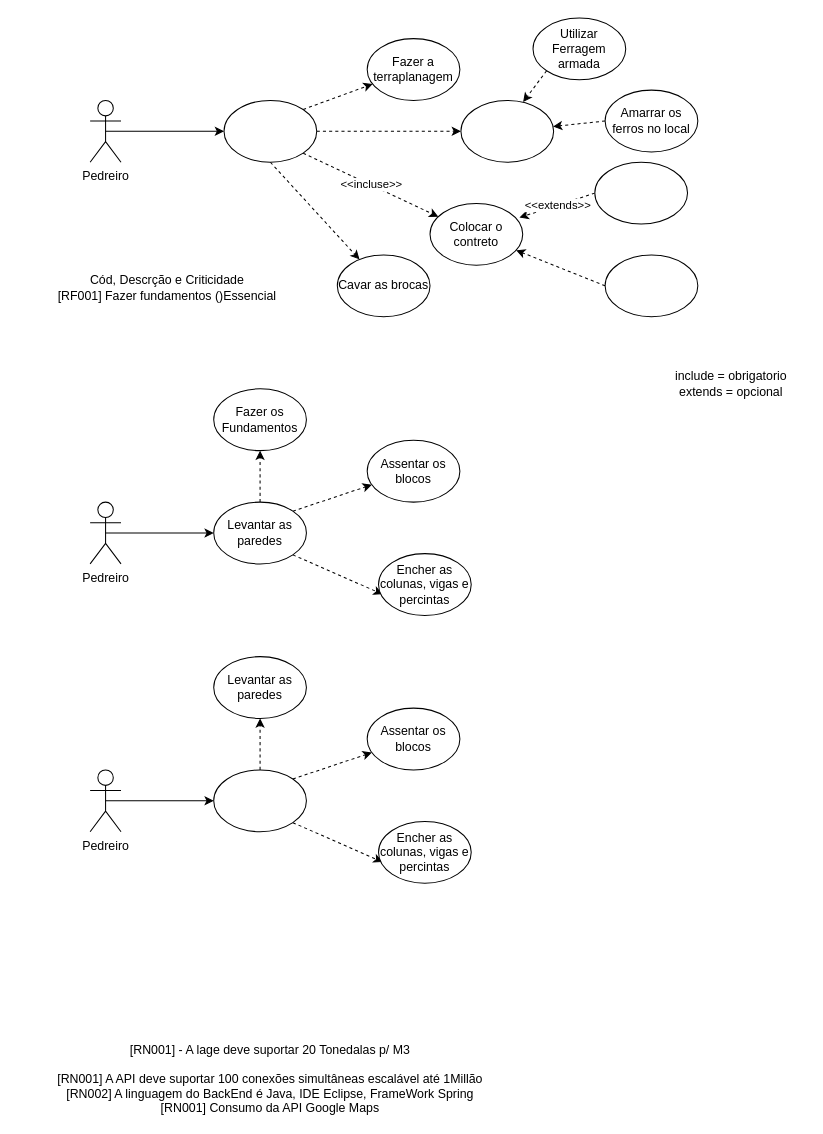
Some shapes in this 823 by 1134 pixel diagram are drawn without their labels. The centre of each missing label's shape, as x and y in pixels:
[RF001] Fazer os Fundamentos: (270,130)
Fazer a lage: (259,800)
Fazer o concreto no local: (651,285)
Montar as caixarias: (507,130)
Utilizar concreto Usinado: (641,192)
